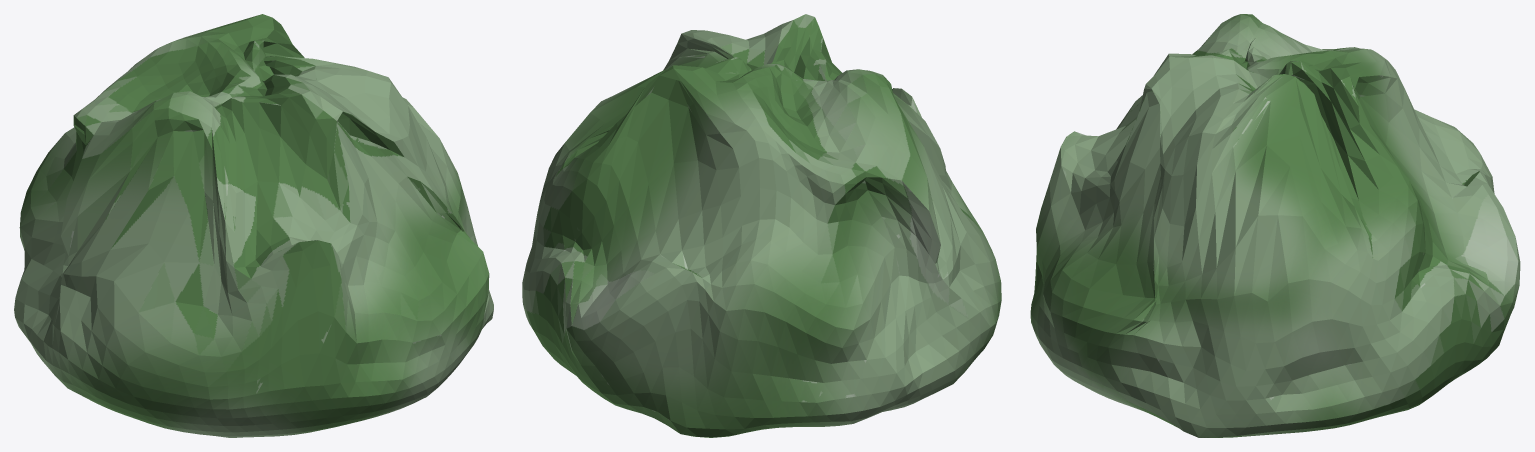
The model's file is Gärddhatt.fbx.
3 views of the same model, side by side, from view 1: azimuth 30°, elevation 25°; view 2: azimuth 150°, elevation 25°; view 3: azimuth 270°, elevation 25° (orthographic).
Visible parts, largest first — view 1: Icosphere; view 2: Icosphere; view 3: Icosphere.
Part boxes in pixels (x1,y1,x2,y2): Icosphere: (14, 14, 493, 437); Icosphere: (522, 14, 1001, 437); Icosphere: (1030, 14, 1520, 437).
Size of the model in its own units: 190 by 136 by 192.
